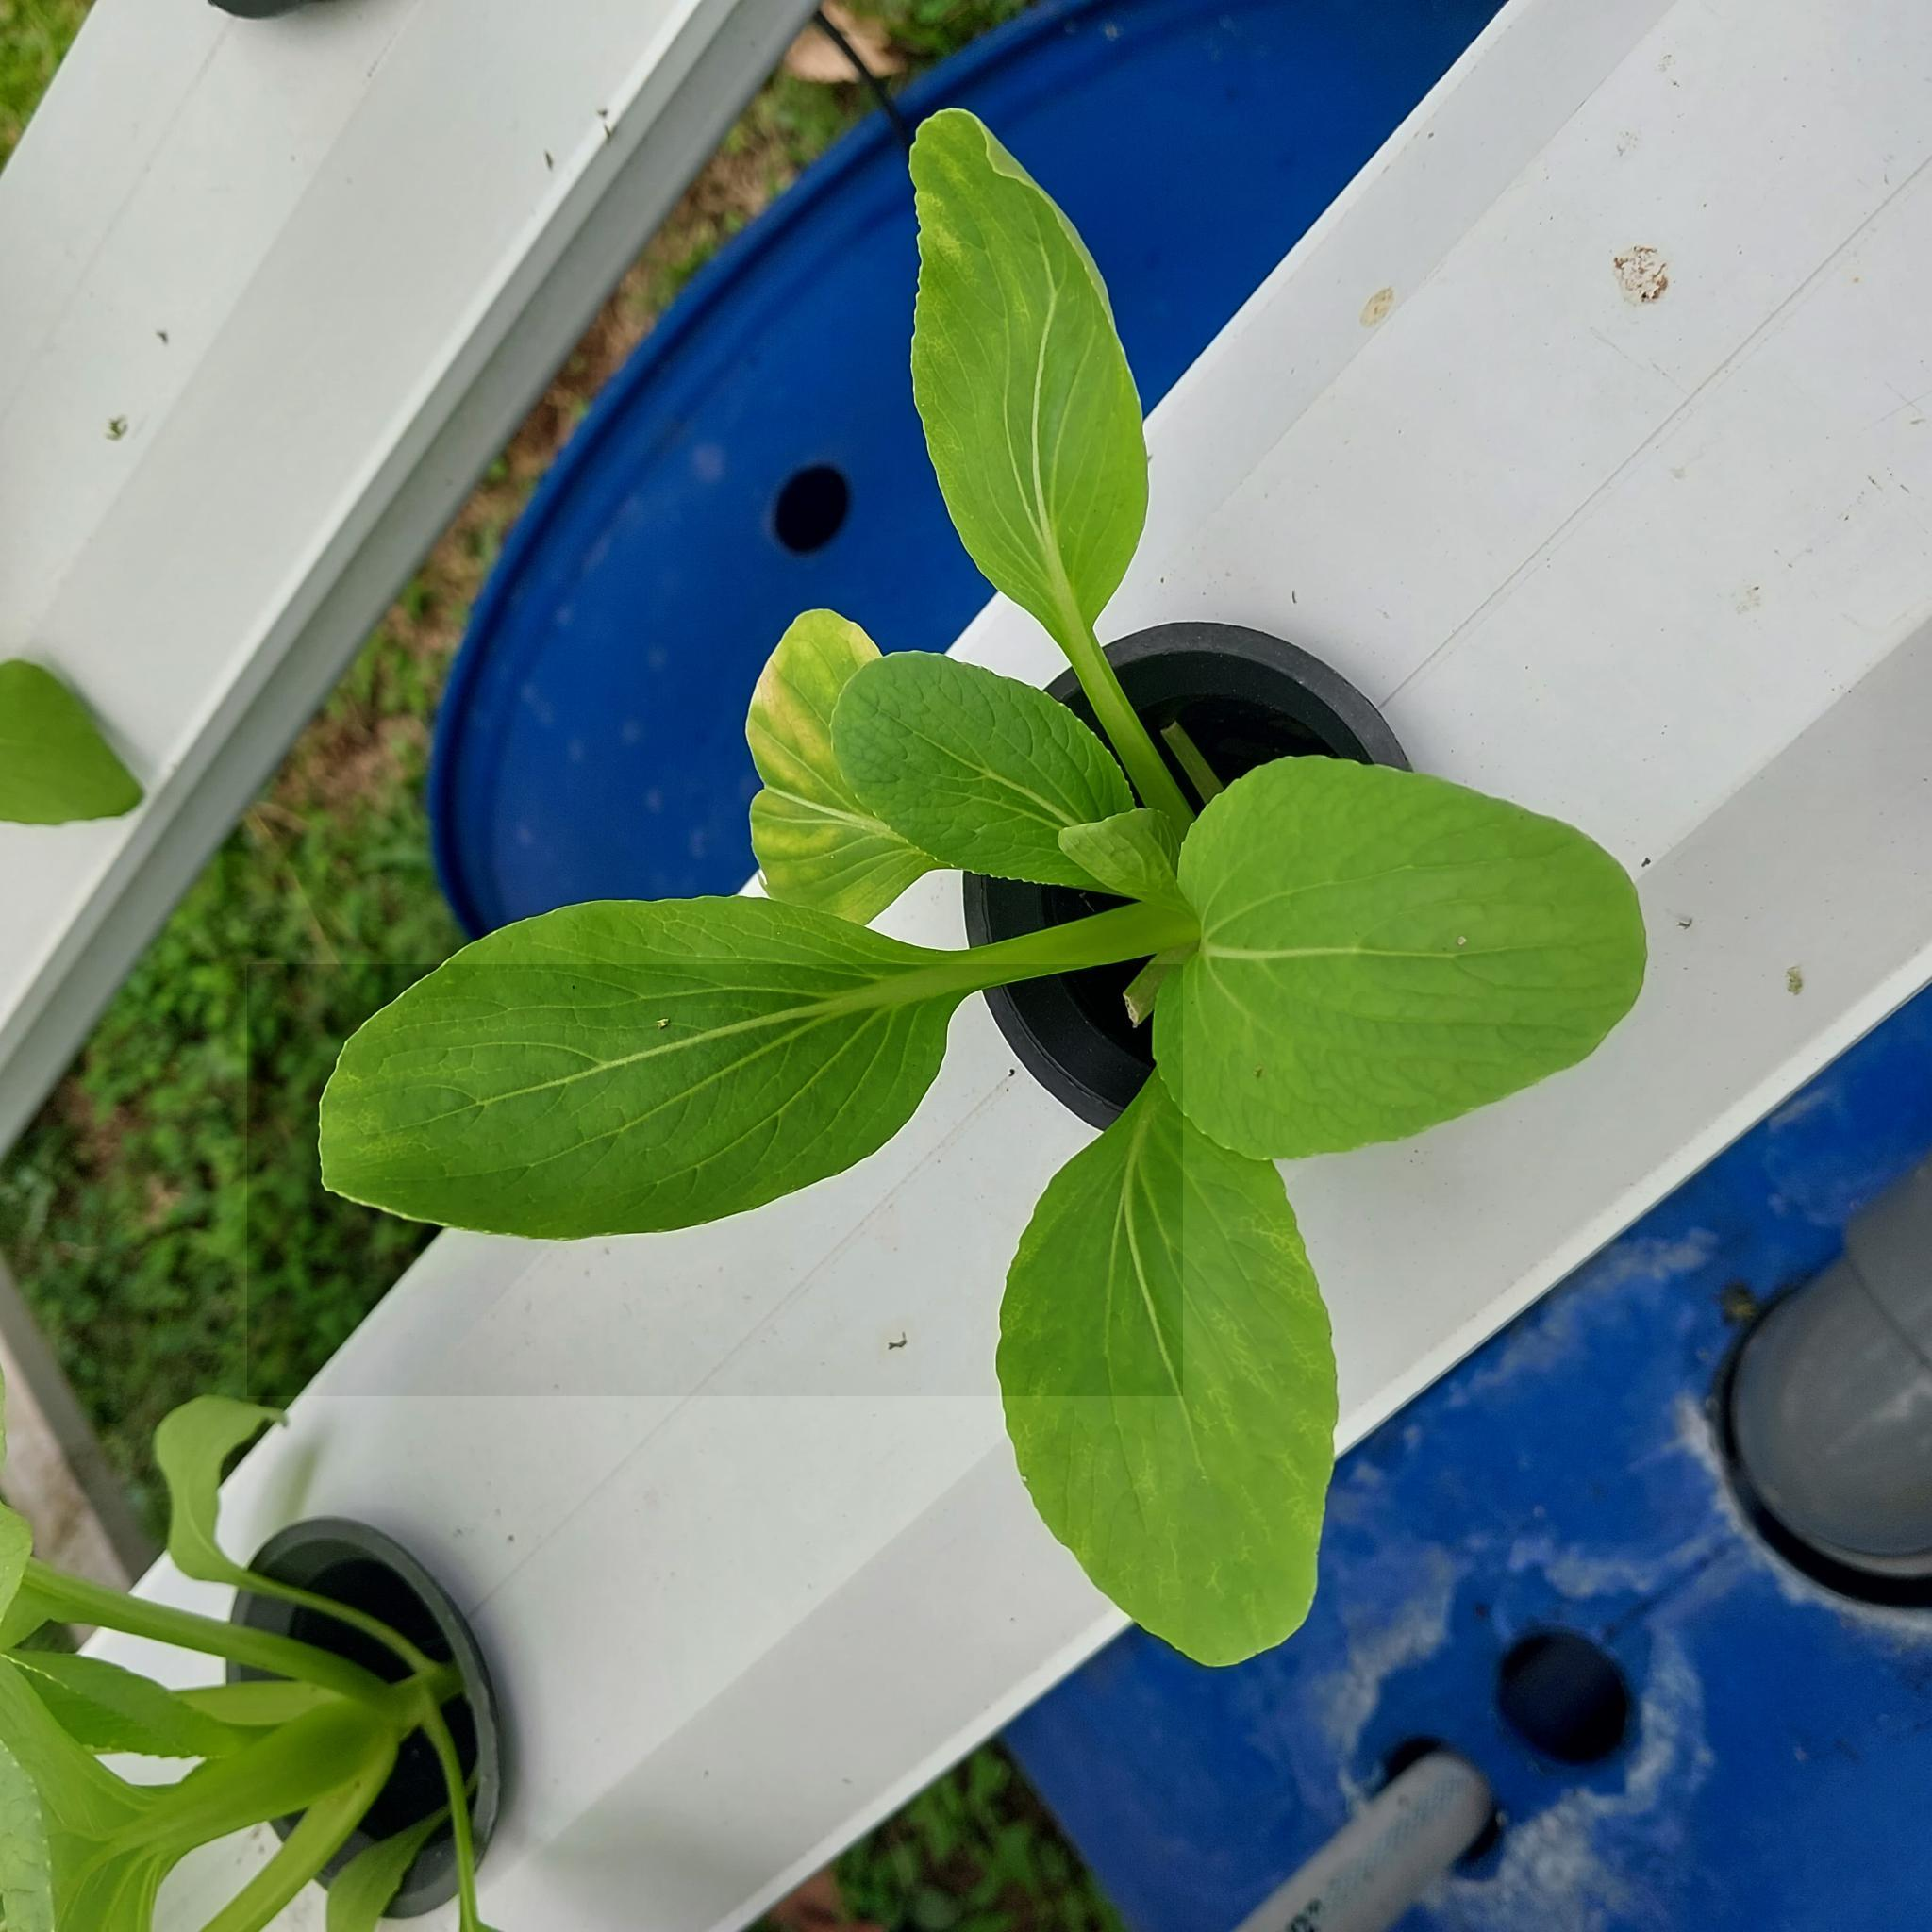Healthy-Pechay: (304, 932, 957, 1242), (908, 97, 1166, 849), (1014, 1076, 1322, 1670), (1178, 775, 1661, 1139), (372, 893, 920, 994), (5, 1637, 253, 1764), (147, 1396, 290, 1596), (400, 1688, 506, 1932), (0, 658, 143, 826), (317, 1810, 455, 1927)
